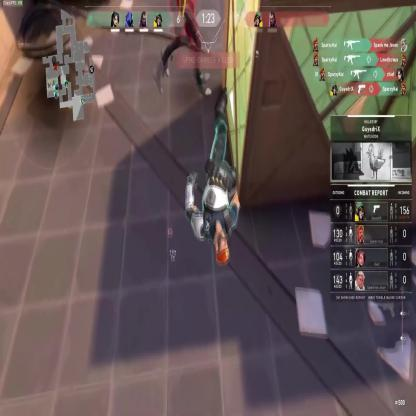enemy: (162, 0, 211, 97)
